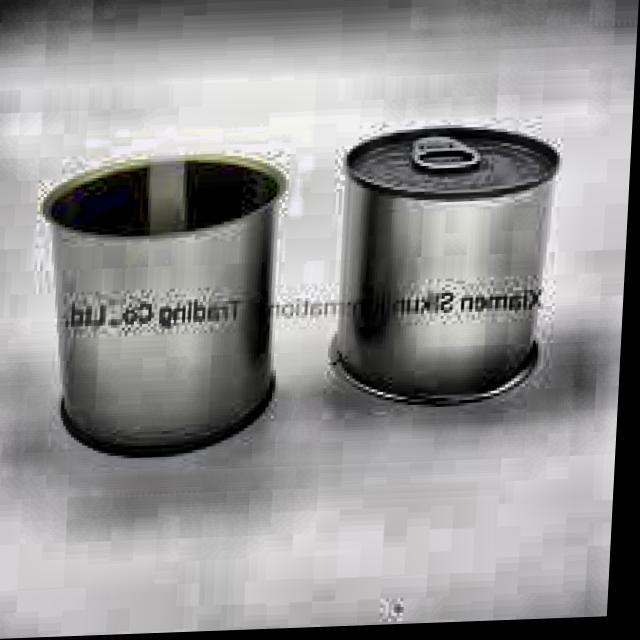Aluminum Can: (30, 140, 294, 467), (318, 116, 574, 427)
